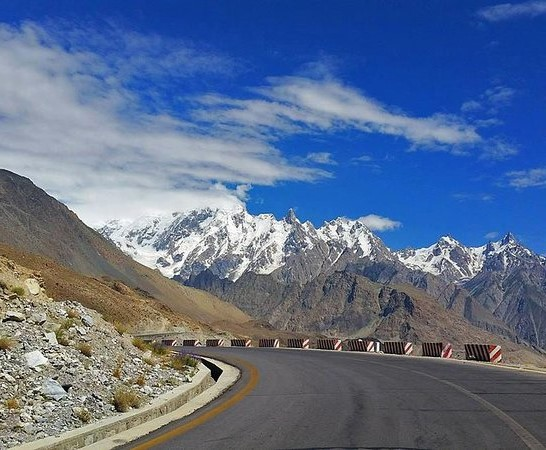leftTrun: (144, 317, 526, 450)
